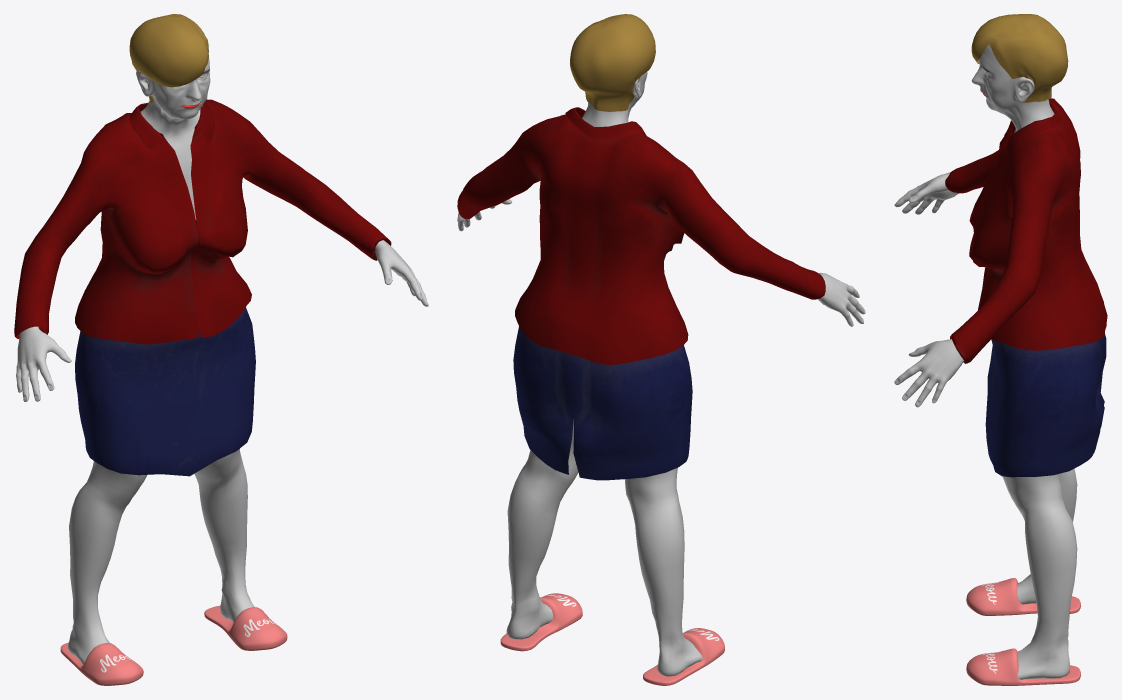
The model's file is Karen.fbx.
3 views of the same model, side by side, from view 1: azimuth 30°, elevation 25°; view 2: azimuth 150°, elevation 25°; view 3: azimuth 270°, elevation 25° (orthographic).
Parts seen in each view (by area): view 1: Karen, toffel; view 2: Karen, toffel; view 3: Karen, toffel.
Boxes of the visible parts, box(x1,y1,x2,y2) form: Karen: box(14, 14, 428, 664); toffel: box(60, 605, 287, 685); Karen: box(457, 14, 865, 676); toffel: box(500, 593, 724, 685); Karen: box(894, 14, 1107, 679); toffel: box(966, 578, 1080, 685).
Bounding box in the file's own units: 979 × 1468 × 455.
